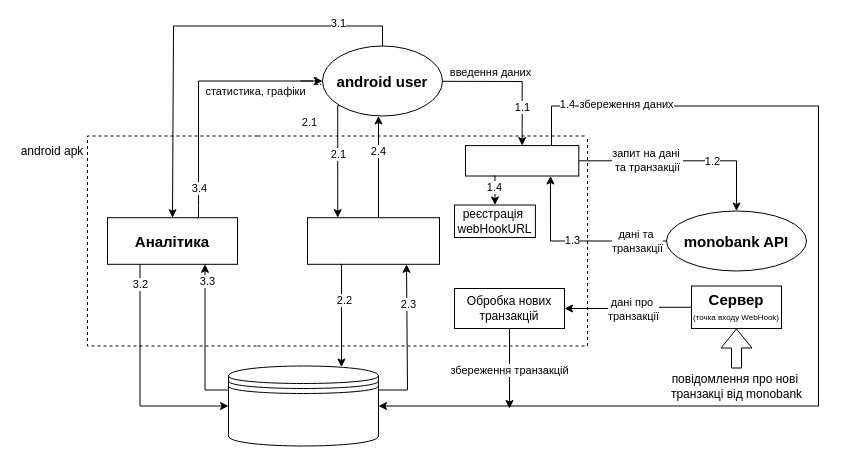
The diagram is 844 pixels wide and 464 high, and some of its shapes have lost their labels. Each missing label, with the centre of its shape:
DataBase: the point at 303,405
Аутентифікація: the point at 521,160
Транзакції: the point at 373,240
